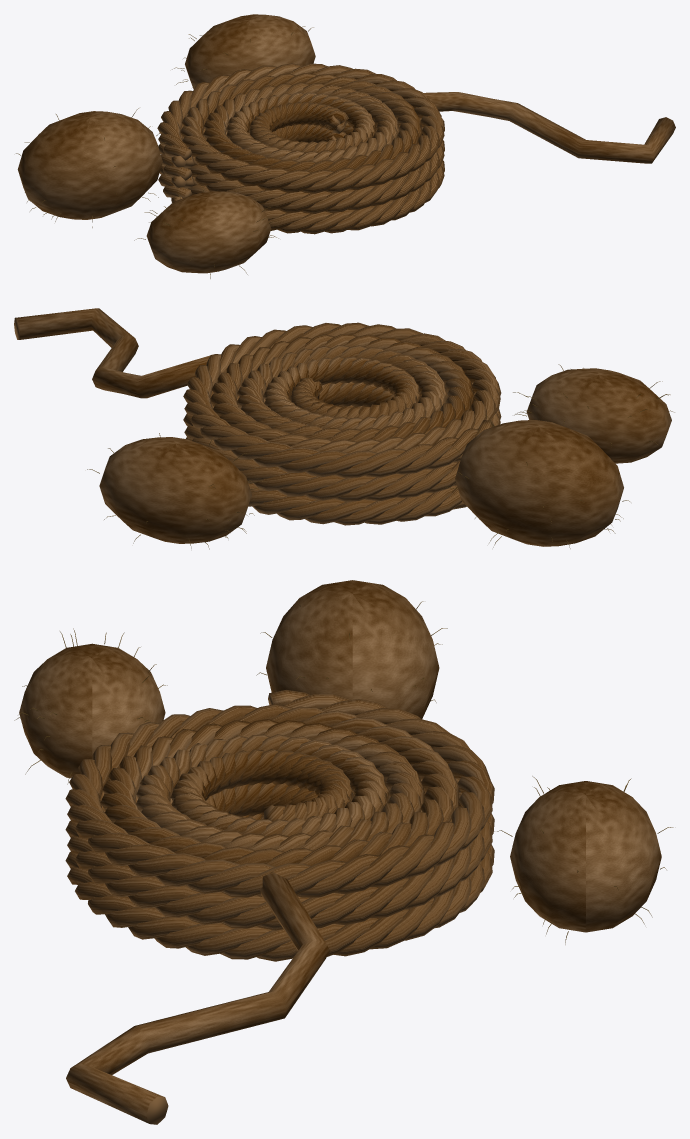
The model's file is KL_LS_Coir_Coil_Husks.gltf.
The picture shows the model from 3 angles, top to bottom: view 1: azimuth 30°, elevation 25°; view 2: azimuth 150°, elevation 25°; view 3: azimuth 270°, elevation 25°; orthographic projection. The views are drawn at different scales.
Visible parts, largest first — view 1: TF3_KL_LS_Coir_Coil_Husks; view 2: TF3_KL_LS_Coir_Coil_Husks; view 3: TF3_KL_LS_Coir_Coil_Husks.
Boxes of the visible parts, <box> form: TF3_KL_LS_Coir_Coil_Husks: <box>16,14,675,278</box>; TF3_KL_LS_Coir_Coil_Husks: <box>14,308,674,549</box>; TF3_KL_LS_Coir_Coil_Husks: <box>14,580,673,1124</box>.
Size of the model in its own units: 1.91 by 0.301 by 1.22.
2 materials, 2 textured.
